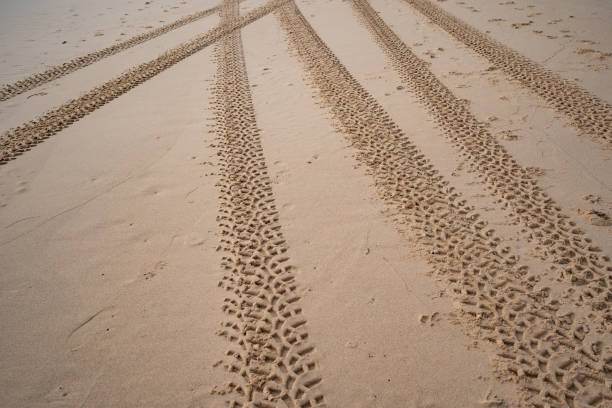vehicle_track: (275, 2, 611, 407), (351, 0, 611, 318), (0, 0, 283, 164), (212, 30, 324, 407), (406, 0, 611, 147), (0, 6, 218, 100)
